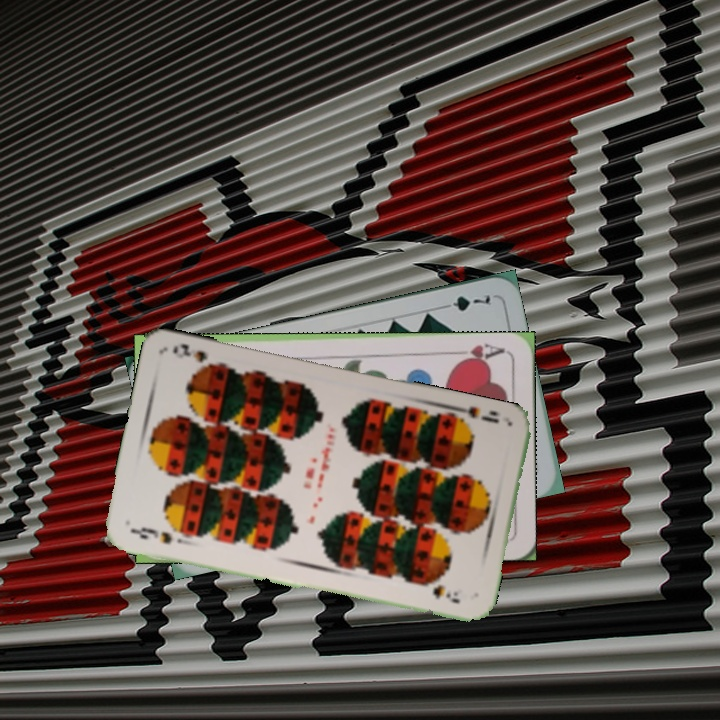G7: (436, 290, 495, 314)
HA: (449, 339, 507, 366)
S9: (449, 402, 502, 428), (127, 523, 175, 547)
